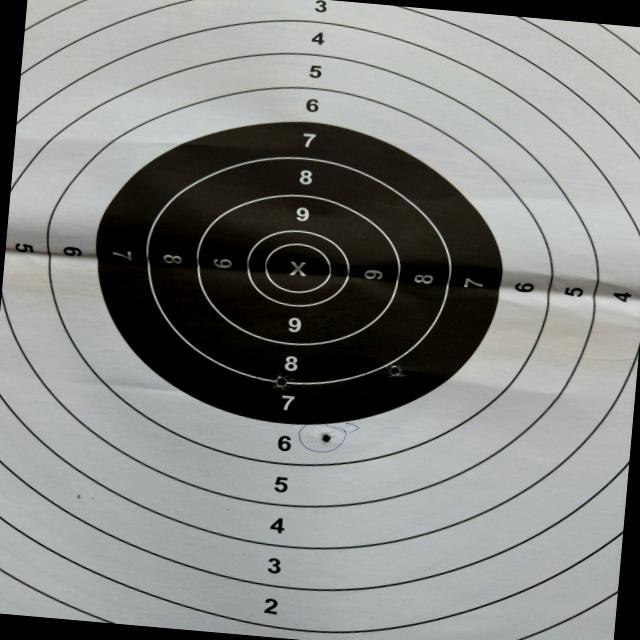bullet: (275, 376, 286, 388), (322, 433, 330, 444), (392, 367, 399, 375)
target: (0, 0, 640, 640)
